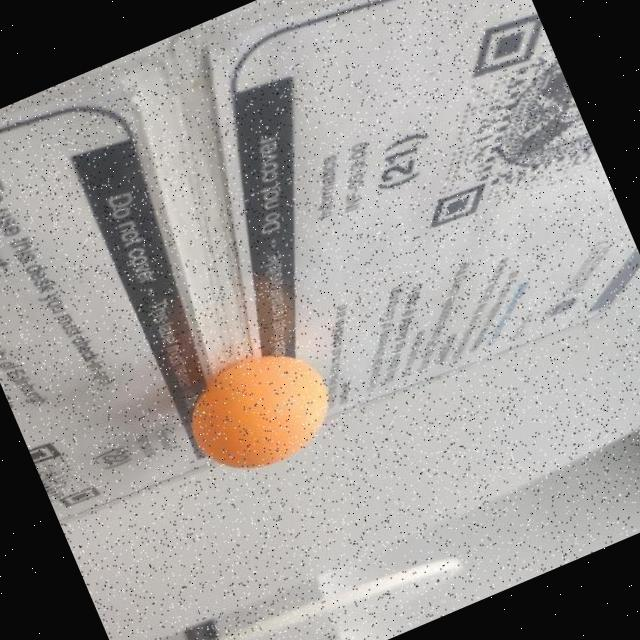ping-pong-ball: (175, 330, 352, 488)
